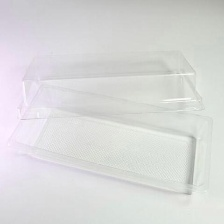plastic_box: (0, 38, 219, 202)
